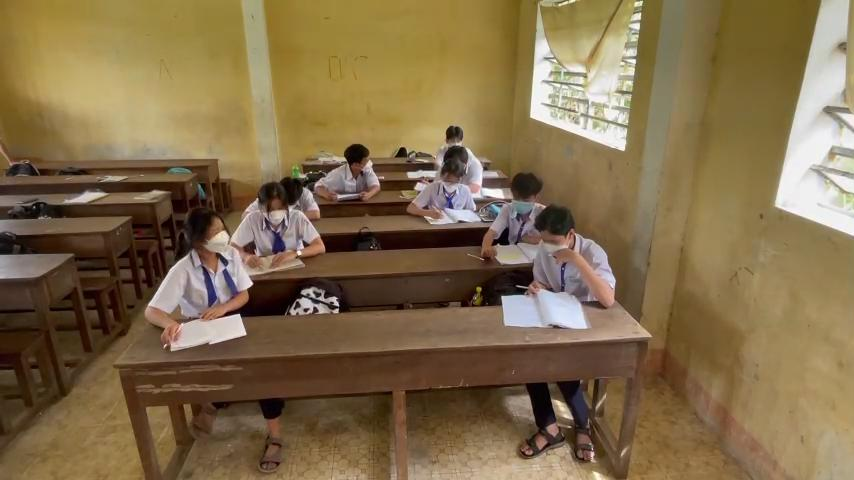Bend Over The Desk: (528, 198, 580, 264)
Look Around: (167, 201, 236, 270), (334, 129, 380, 187)
Wave: (547, 247, 618, 310)
